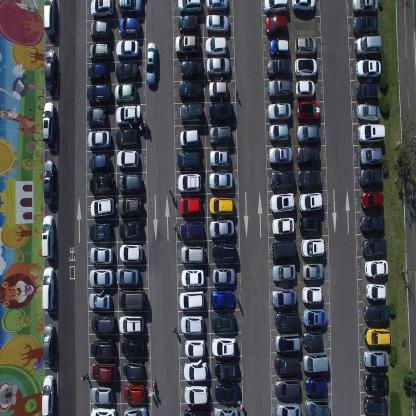car: (354, 34, 382, 58), (41, 213, 55, 260), (357, 121, 385, 144), (41, 266, 55, 311), (43, 158, 56, 206), (359, 212, 385, 235), (208, 101, 234, 124), (177, 79, 203, 102), (42, 100, 55, 146), (114, 104, 141, 126), (118, 289, 146, 310), (41, 373, 55, 415), (179, 219, 204, 242), (90, 196, 115, 219), (302, 352, 328, 374), (274, 378, 300, 400), (117, 196, 143, 218), (269, 170, 295, 192), (364, 302, 390, 324), (361, 237, 387, 259), (355, 57, 381, 79), (174, 34, 200, 56), (86, 83, 112, 105), (42, 322, 55, 366), (274, 332, 301, 353), (364, 327, 391, 348), (44, 48, 57, 91), (118, 173, 142, 196), (119, 219, 143, 242), (296, 168, 320, 191), (88, 18, 112, 41), (293, 55, 317, 78), (264, 14, 288, 37), (269, 191, 294, 213), (271, 240, 296, 262), (183, 360, 208, 382), (208, 170, 233, 192), (267, 100, 292, 122), (267, 78, 292, 100), (274, 355, 300, 376), (211, 242, 237, 263), (211, 336, 237, 357), (213, 360, 239, 381), (178, 290, 205, 310), (116, 149, 140, 171), (296, 144, 320, 166), (87, 128, 111, 150), (208, 124, 232, 146), (296, 100, 320, 122), (204, 34, 228, 56), (115, 60, 139, 82), (209, 195, 234, 216), (119, 313, 144, 334), (210, 289, 235, 310), (89, 268, 114, 289), (363, 394, 388, 415), (359, 167, 384, 188), (205, 14, 230, 35), (271, 288, 297, 308), (209, 219, 235, 239), (180, 244, 206, 264), (352, 15, 378, 35), (298, 213, 321, 235), (90, 172, 113, 194), (118, 16, 141, 38), (268, 145, 292, 166), (177, 149, 201, 170), (114, 82, 138, 103), (300, 238, 325, 258), (301, 308, 326, 328), (180, 268, 205, 288), (211, 267, 236, 287), (210, 312, 235, 332), (184, 385, 209, 405), (119, 243, 144, 263), (90, 314, 115, 334), (363, 372, 388, 392), (177, 172, 202, 192), (179, 102, 204, 122), (206, 56, 231, 76), (179, 58, 204, 78), (274, 311, 300, 330), (214, 383, 240, 402), (363, 349, 389, 368), (89, 0, 115, 19), (303, 398, 330, 416), (86, 106, 108, 128), (296, 123, 319, 144), (90, 245, 113, 266), (294, 35, 317, 56), (43, 0, 56, 37), (121, 337, 145, 357), (272, 264, 296, 284), (180, 314, 204, 334), (360, 190, 384, 210), (115, 128, 139, 148), (266, 58, 292, 76), (304, 376, 326, 397), (268, 123, 290, 144), (271, 216, 294, 236), (116, 266, 139, 286), (123, 384, 146, 404), (89, 291, 112, 311), (90, 384, 113, 404), (359, 146, 382, 166), (356, 102, 379, 122), (146, 40, 156, 86), (116, 38, 139, 58), (90, 339, 114, 358), (364, 259, 388, 278), (355, 81, 379, 100), (178, 196, 202, 215), (88, 221, 112, 240), (297, 192, 322, 210), (91, 363, 116, 381), (89, 152, 110, 173), (208, 79, 229, 100), (184, 338, 206, 358), (122, 360, 144, 380), (87, 62, 109, 82), (89, 42, 112, 61), (179, 127, 199, 148), (208, 149, 230, 168), (178, 14, 200, 33), (275, 400, 301, 416), (352, 0, 379, 15), (302, 284, 322, 304), (295, 78, 315, 98), (269, 37, 289, 57), (302, 330, 323, 349), (302, 262, 324, 280), (263, 0, 289, 15), (176, 0, 202, 14), (290, 0, 316, 14), (366, 282, 386, 300), (119, 0, 143, 15), (205, 0, 229, 13), (122, 404, 148, 415), (183, 406, 211, 416), (213, 405, 239, 415), (90, 407, 116, 415)
